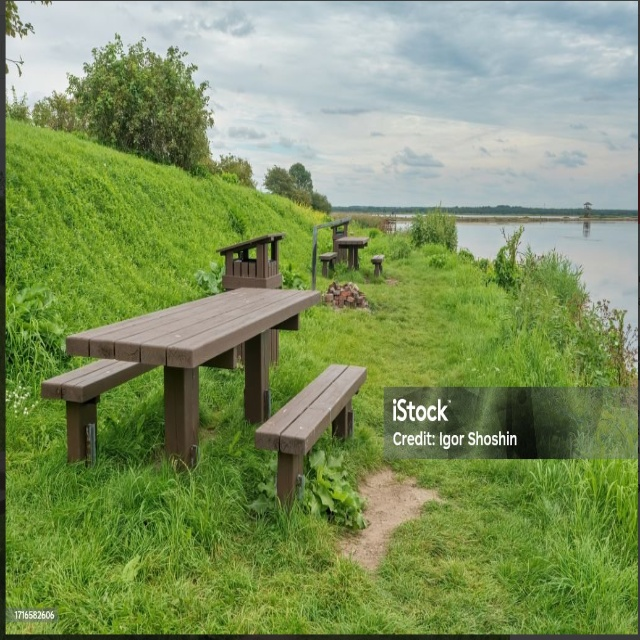obstacle: (62, 277, 329, 495), (253, 358, 368, 488), (45, 360, 125, 464), (333, 235, 368, 268), (369, 243, 385, 282), (319, 247, 337, 278)
